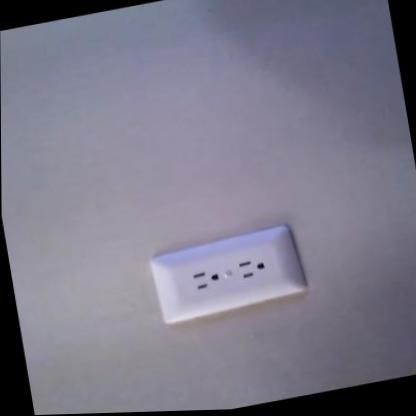OUTLET: (148, 223, 306, 326)
